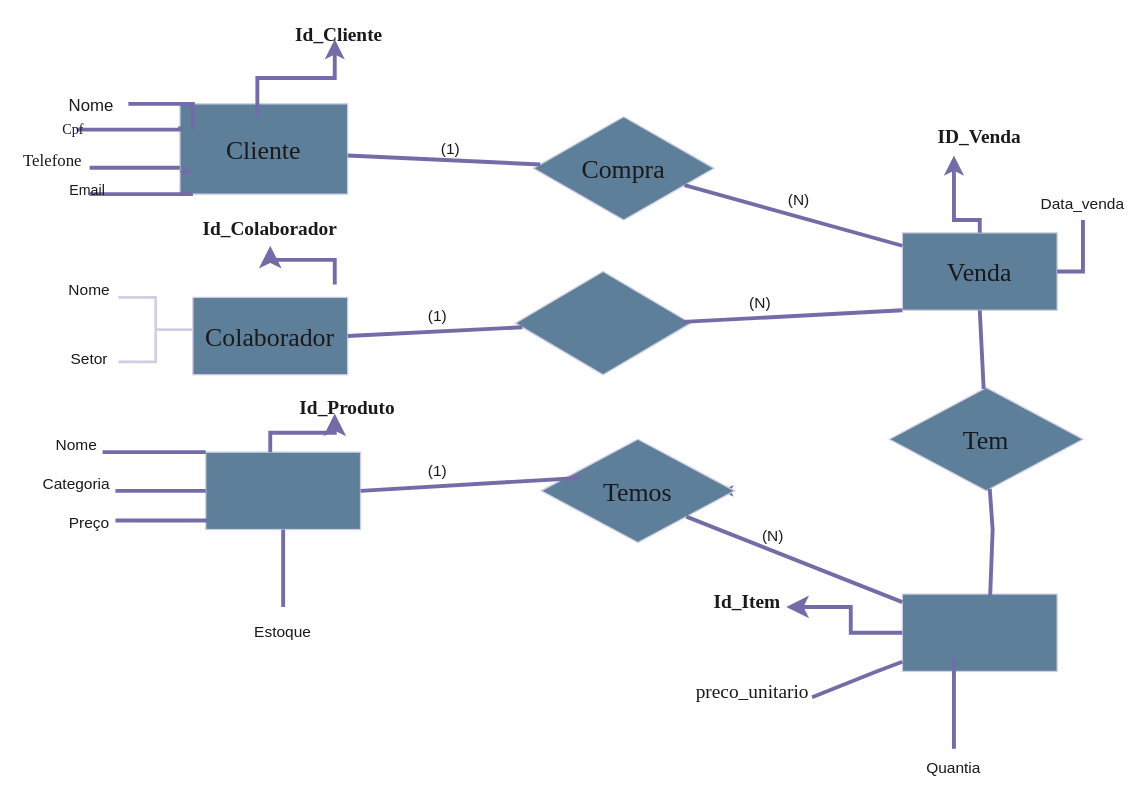
The diagram is 1147 pixels wide and 810 high, and some of its shapes have lost their labels. Here are the shapes that lost their labels. From the top down, the centre of each, then its label:
the point at 602,322: Efetua
the point at 282,490: Produto
the point at 979,632: ItemVenda
